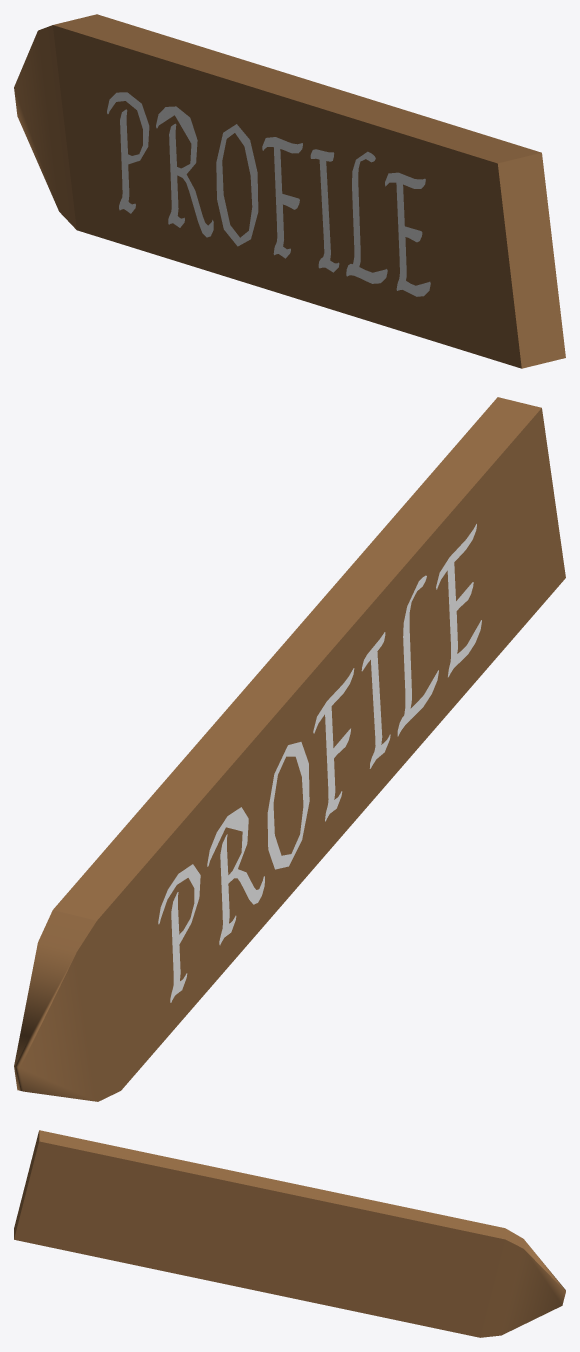
The model's file is ProfileSign.glb.
The picture shows the model from 3 angles, top to bottom: view 1: azimuth 30°, elevation 25°; view 2: azimuth 150°, elevation 25°; view 3: azimuth 270°, elevation 25°; orthographic projection. The views are drawn at different scales.
Parts seen in each view (by area): view 1: Cube.008; view 2: Cube.008; view 3: Cube.008.
Part boxes in pixels (box(x1,y1,x2,y2)): Cube.008: box(14, 14, 565, 368); Cube.008: box(14, 397, 565, 1101); Cube.008: box(14, 1130, 565, 1337).
Size of the model in its own units: 0.131 by 0.9831 by 2.5.
